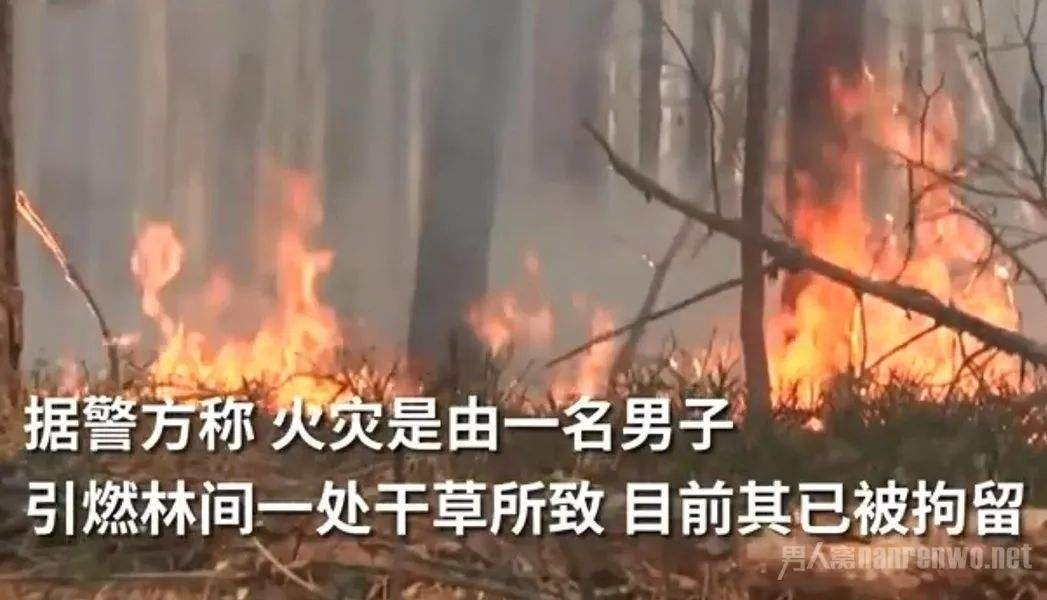fire: (763, 87, 1036, 416), (112, 188, 355, 414), (467, 264, 624, 410)
